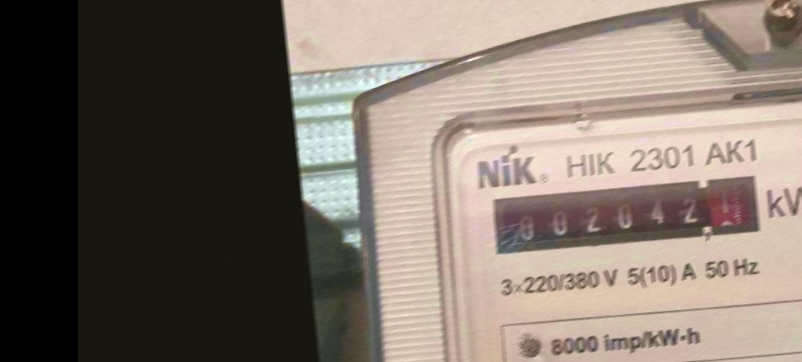0: (550, 207, 571, 240), (517, 212, 538, 243), (615, 201, 636, 232)
1: (716, 186, 733, 218)
2: (583, 205, 604, 236), (681, 195, 701, 226)
4: (648, 195, 669, 229)
screen: (488, 168, 768, 268)
